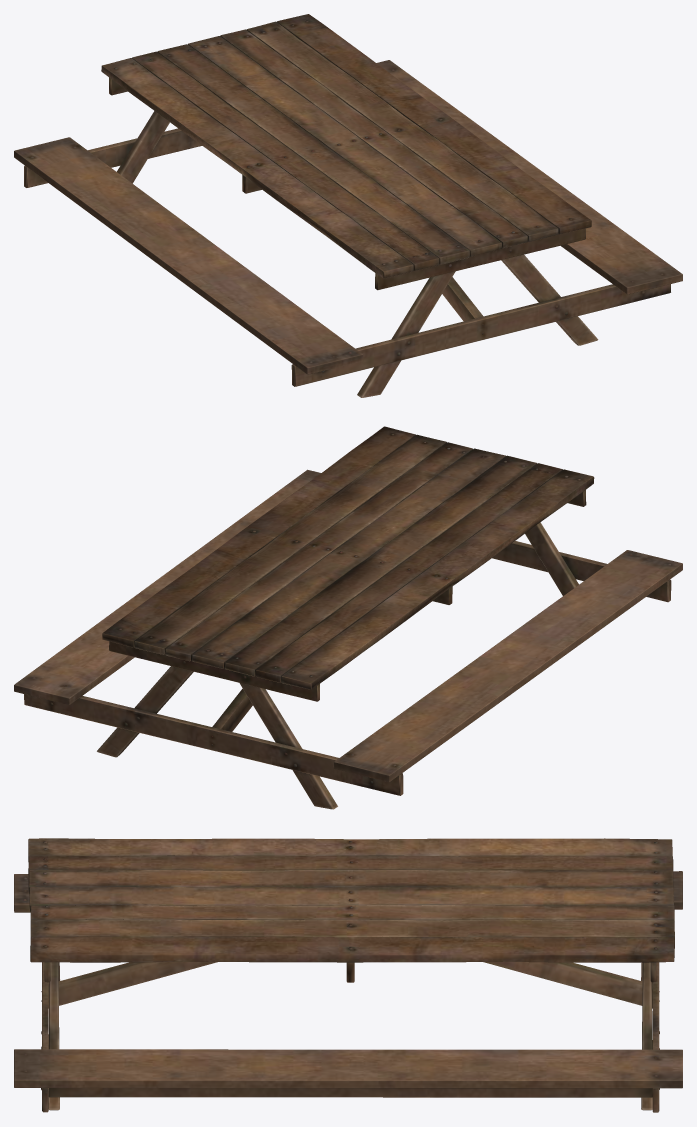
File: ph_wooden_picnic_table.glb
The picture shows the model from 3 angles, top to bottom: view 1: azimuth 30°, elevation 25°; view 2: azimuth 150°, elevation 25°; view 3: azimuth 270°, elevation 25°; orthographic projection. The views are drawn at different scales.
Visible parts, largest first — view 1: wooden_picnic_table; view 2: wooden_picnic_table; view 3: wooden_picnic_table.
Boxes of the visible parts, x1,y1,x2,y2 form: wooden_picnic_table: [14, 14, 682, 397]; wooden_picnic_table: [14, 426, 682, 809]; wooden_picnic_table: [14, 838, 682, 1112].
Size of the model in its own units: 2.24 by 0.746 by 3.02.
2 materials, 2 textured.
